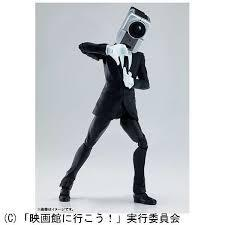no more kid: (115, 6, 152, 53)
